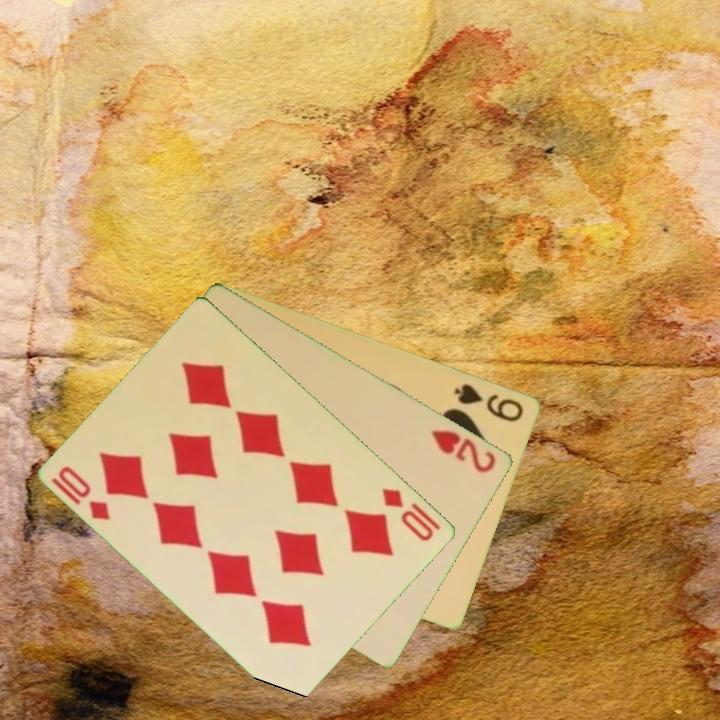10d: (48, 462, 114, 523), (378, 484, 437, 545)
2h: (428, 426, 500, 476)
9s: (451, 379, 527, 425)
